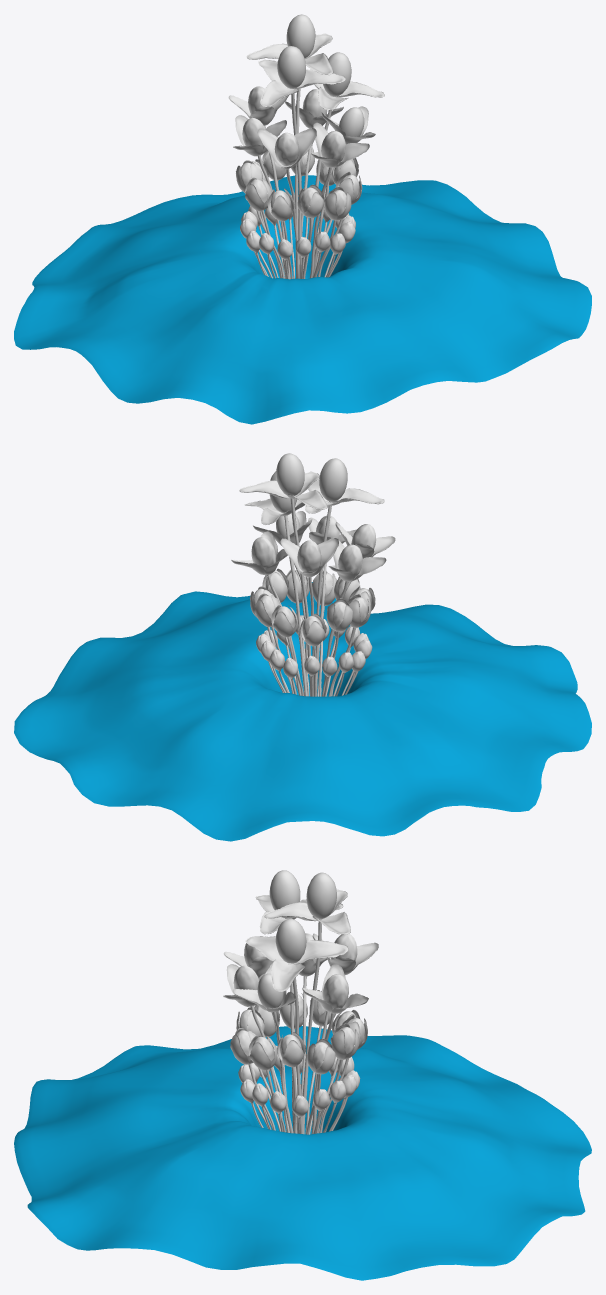
Rendered from Flower.fbx.
3 renders of one model, top to bottom at view 1: azimuth 30°, elevation 25°; view 2: azimuth 150°, elevation 25°; view 3: azimuth 270°, elevation 25°, orthographic. The views are drawn at different scales.
Visible parts, largest first — view 1: Flower; view 2: Flower; view 3: Flower.
Boxes of the visible parts, x1=… form: Flower: x1=14, y1=14, x2=591, y2=424; Flower: x1=14, y1=453, x2=591, y2=841; Flower: x1=14, y1=870, x2=591, y2=1280.
Bounding box in the file's own units: 906 × 536 × 874.
